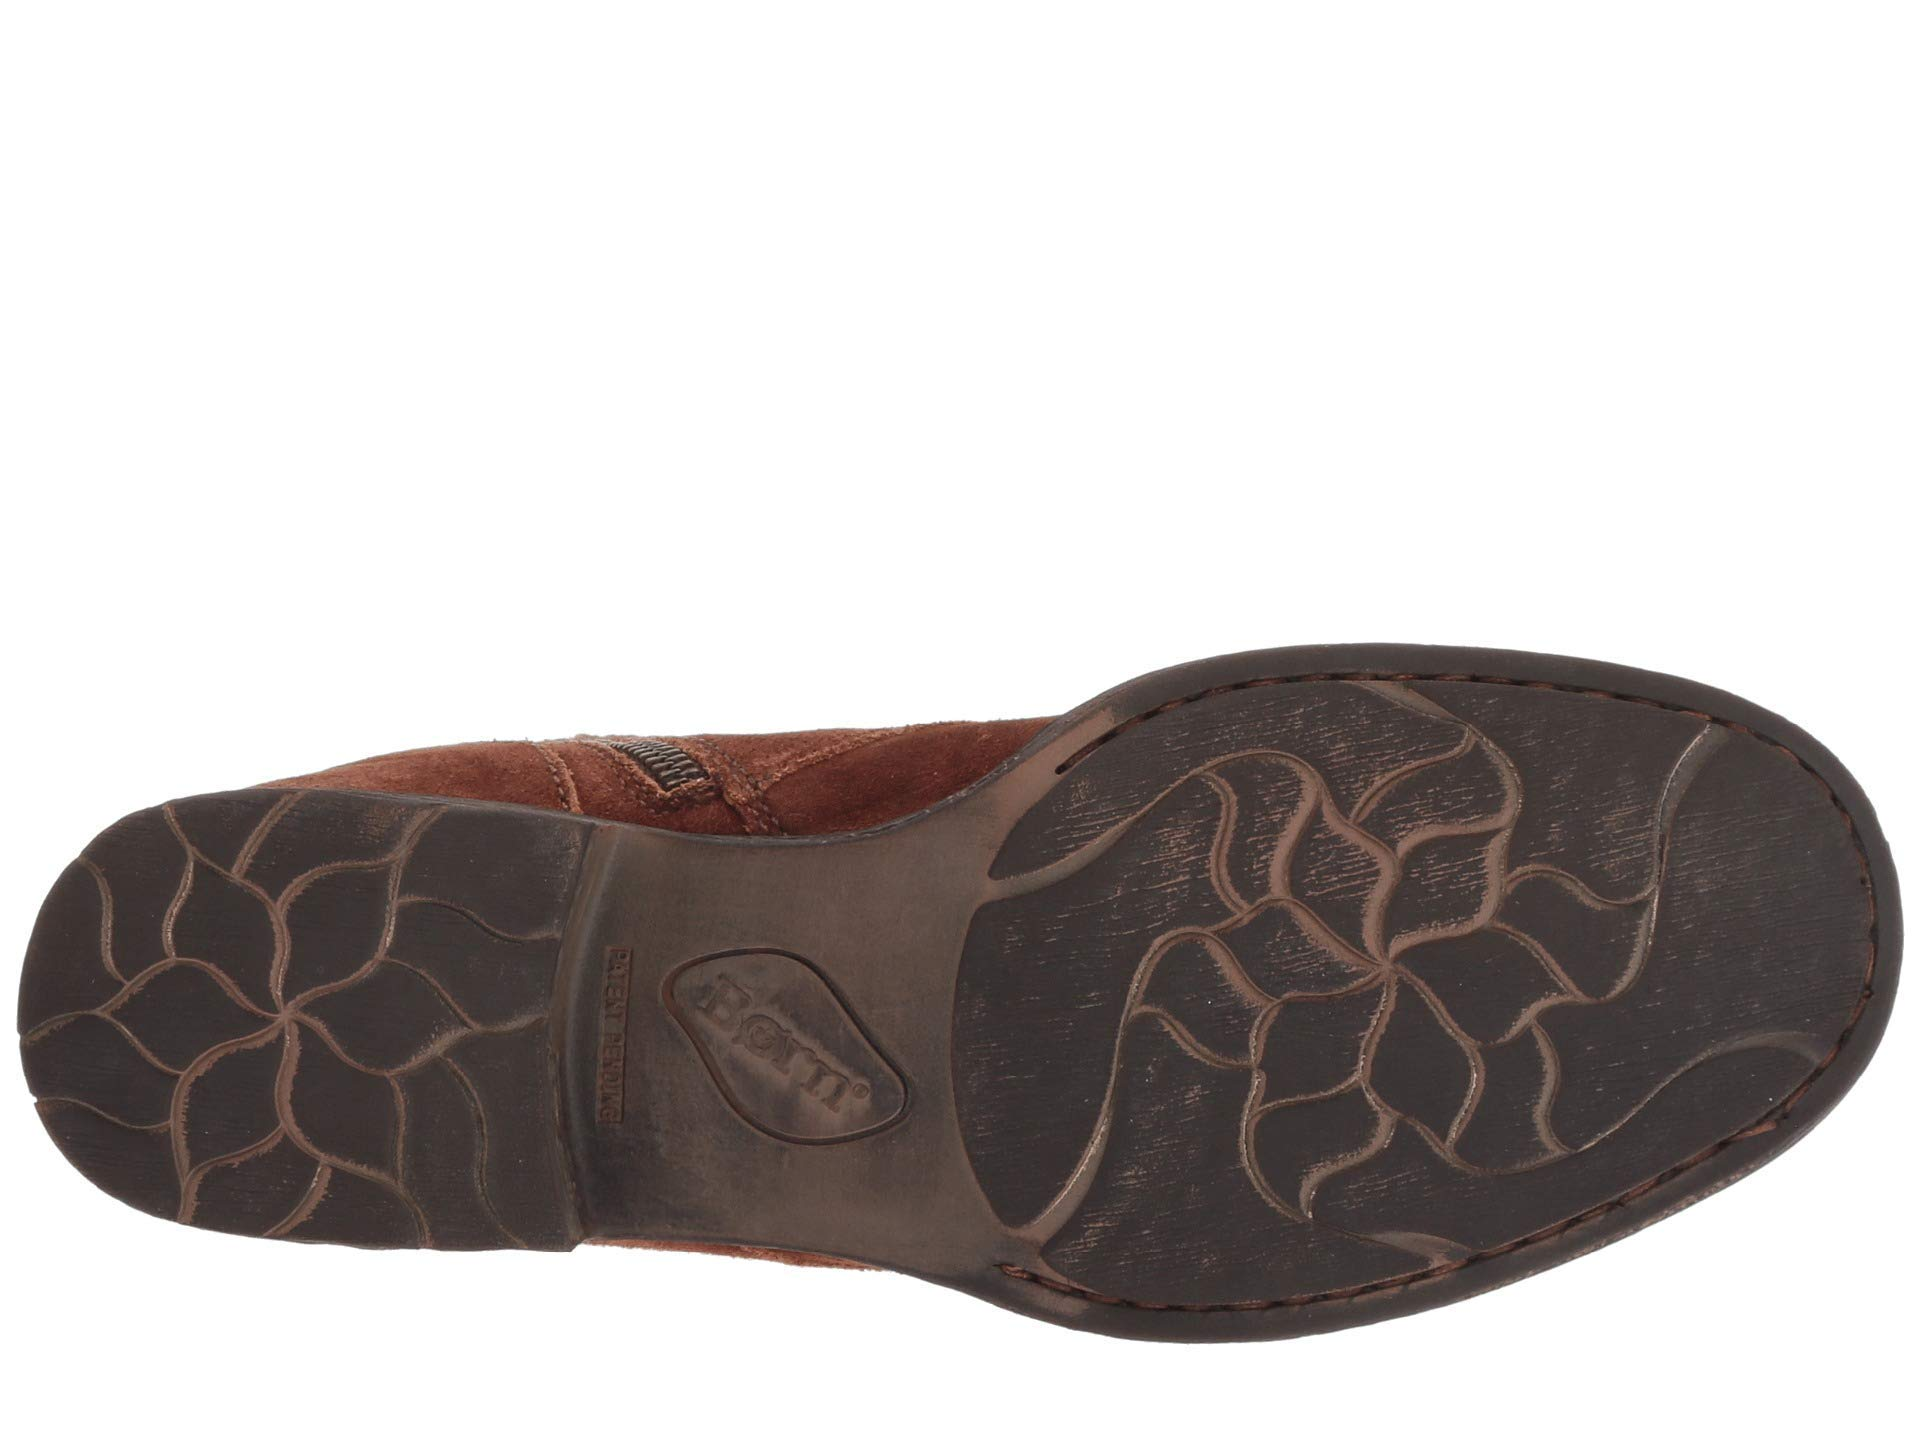circle: (658, 920, 919, 1199)
line: (1244, 655, 1652, 808)
quad: (658, 920, 919, 1199), (573, 917, 641, 1156)
star: (1279, 873, 1479, 1080), (184, 935, 379, 1097)
text: (658, 920, 919, 1199), (573, 917, 641, 1156)
